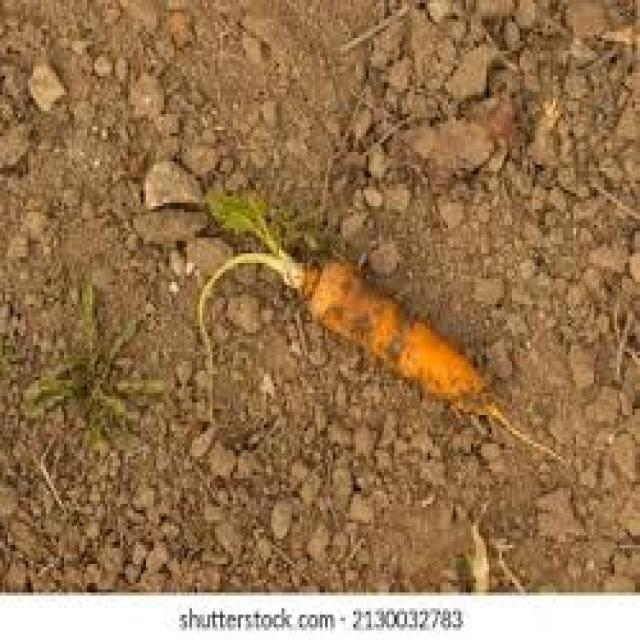Stale_Carrot: (253, 222, 489, 416)
